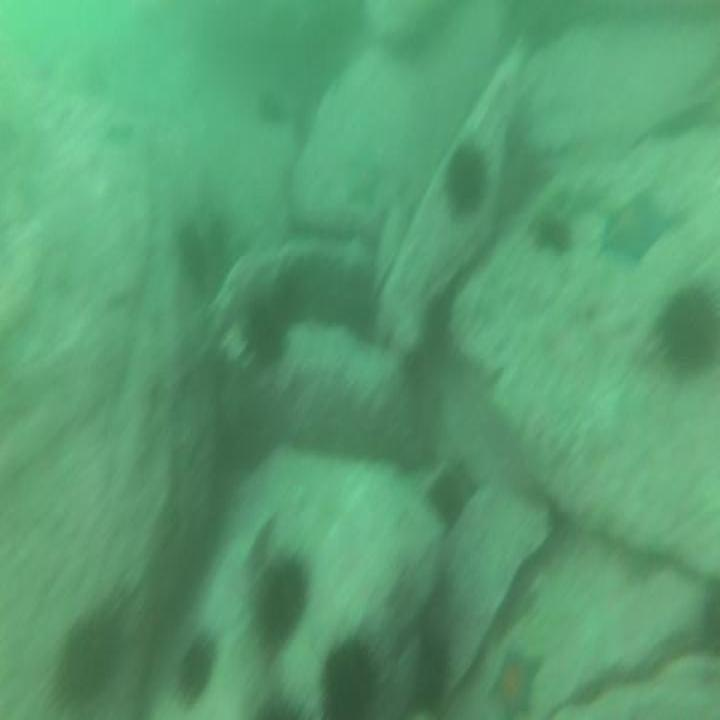echinus: (242, 538, 311, 674), (657, 277, 720, 386), (55, 617, 116, 715), (319, 631, 380, 720), (334, 260, 381, 346), (443, 139, 488, 222), (241, 297, 289, 373), (285, 256, 331, 332), (409, 634, 452, 714), (428, 455, 477, 525), (173, 633, 216, 711), (171, 214, 212, 286), (246, 686, 312, 720), (532, 208, 572, 260), (259, 89, 288, 133)
starfish: (485, 631, 547, 720), (600, 188, 671, 265)
